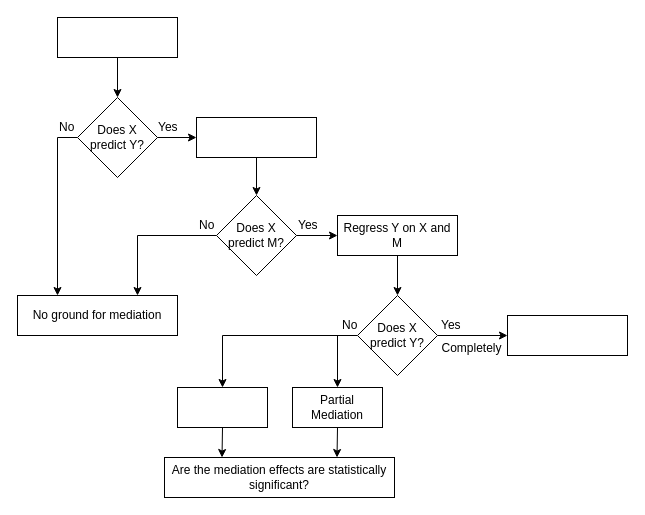
Image size: 645x515. Some labels were removed from this diagram. The shapes that lost their labels are listed below. From the top down, each one's box as (x1, y1, x2, y2) in pixels, then its label:
(56, 16, 178, 58): Regress Y on X
(196, 116, 316, 158): Regress M on X
(506, 314, 628, 356): No mediation effects
(176, 386, 268, 428): Full Mediation
